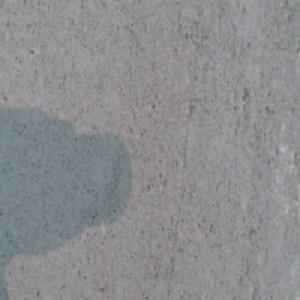Washer: (101, 286, 123, 300)
